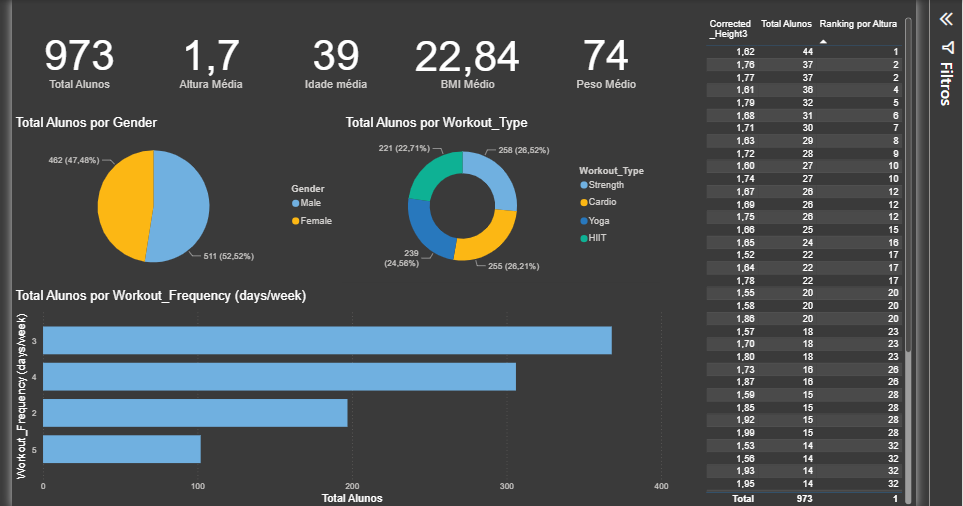

The dashboard page shown, as its layout file describes it:
{"tool":"powerbi","page":{"name":"Aspec. Demográficos/Frequência","canvas":[1280,720],"ordinal":1},"visuals":[{"type":"card","fields":{"Values":["gym_members_exercise_tracking.BMI Médio"]},"box":[542.6,0.9,206.3,162.4],"z":0},{"type":"card","fields":{"Values":["gym_members_exercise_tracking.Medida 2"]},"box":[0.9,0,188.8,163.3],"z":1000},{"type":"card","fields":{"Values":["gym_members_exercise_tracking.Altura Média"]},"box":[189.7,0,184.4,163.3],"z":2000},{"type":"card","fields":{"Values":["gym_members_exercise_tracking.Peso Médio"]},"box":[749,0,187.9,163.3],"z":3000},{"type":"card","fields":{"Values":["gym_members_exercise_tracking.Idade média"]},"box":[374.9,0,167.7,163.3],"z":4000},{"type":"pieChart","fields":{"Y":["gym_members_exercise_tracking.Total Alunos"],"Category":["gym_members_exercise_tracking.Gender"]},"box":[0,162.4,468,238],"z":5000},{"type":"donutChart","fields":{"Y":["gym_members_exercise_tracking.Total Alunos"],"Category":["gym_members_exercise_tracking.Workout_Type"]},"box":[468,163.3,449.6,237.1],"z":6000},{"type":"tableEx","fields":{"Values":["gym_members_exercise_tracking.Corrected_Height3","gym_members_exercise_tracking.Total Alunos","gym_members_exercise_tracking.Ranking por Altura"]},"box":[978.2,19.4,301.8,700.4],"z":7000},{"type":"barChart","fields":{"Category":["gym_members_exercise_tracking.Workout_Frequency (days/week)"],"Y":["gym_members_exercise_tracking.Total Alunos"]},"box":[0,408.7,936.1,311.4],"z":8000}]}

Visuals, with their boxes on the page's 1280x720 design canvas (x1, y1, x2, y2). These are canvas units, not pixel positions in the 963x506 screenshot, which may show the page scaled, cropped or inside an application window:
card - gym_members_exercise_tracking.BMI Médio: bbox=(543, 1, 749, 163)
card - gym_members_exercise_tracking.Medida 2: bbox=(1, 0, 190, 163)
card - gym_members_exercise_tracking.Altura Média: bbox=(190, 0, 374, 163)
card - gym_members_exercise_tracking.Peso Médio: bbox=(749, 0, 937, 163)
card - gym_members_exercise_tracking.Idade média: bbox=(375, 0, 543, 163)
pieChart - gym_members_exercise_tracking.Total Alunos x gym_members_exercise_tracking.Gender: bbox=(0, 162, 468, 400)
donutChart - gym_members_exercise_tracking.Total Alunos x gym_members_exercise_tracking.Workout_Type: bbox=(468, 163, 918, 400)
tableEx - gym_members_exercise_tracking.Corrected_Height3 x gym_members_exercise_tracking.Total Alunos: bbox=(978, 19, 1280, 720)
barChart - gym_members_exercise_tracking.Workout_Frequency (days/week) x gym_members_exercise_tracking.Total Alunos: bbox=(0, 409, 936, 720)
